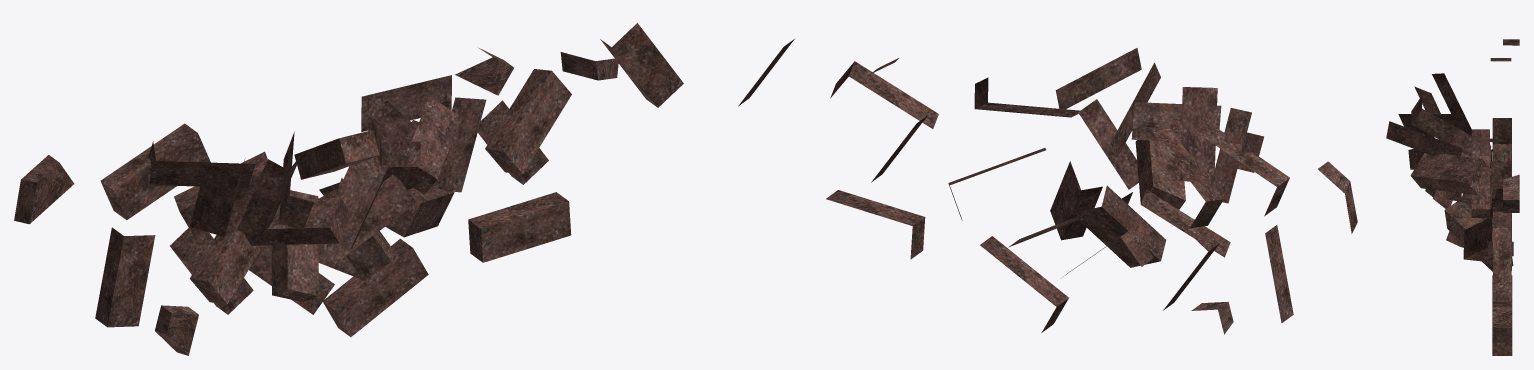
File: prop_redbrickpile_debris_01.glb
3 views of the same model, side by side, from view 1: azimuth 30°, elevation 25°; view 2: azimuth 150°, elevation 25°; view 3: azimuth 270°, elevation 25° (orthographic). The views are drawn at different scales.
Bounding box in the file's own units: 104 × 37.57 × 23.66.
Materials: 1 (1 with a texture image).
